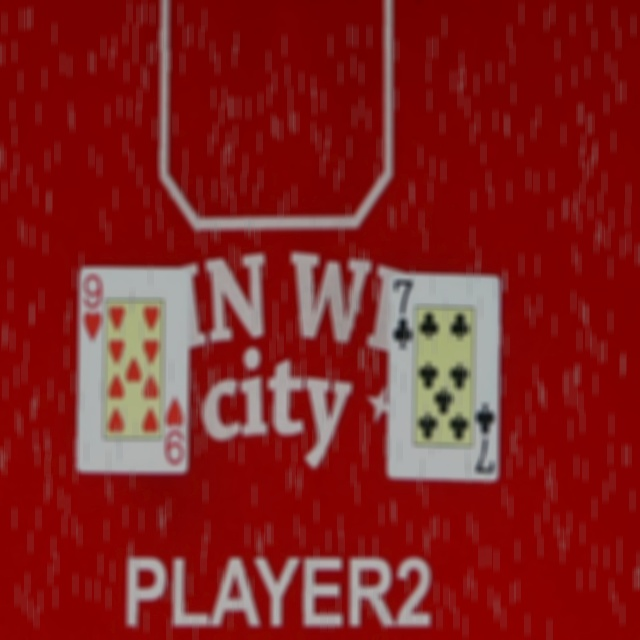7C: (390, 274, 416, 351), (474, 398, 499, 478)
9H: (162, 395, 187, 468), (79, 272, 103, 345)
